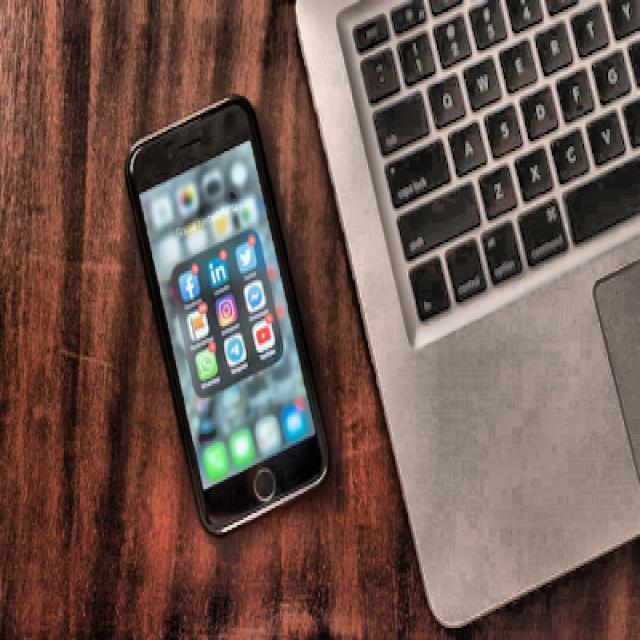Phone: (121, 88, 332, 542)
